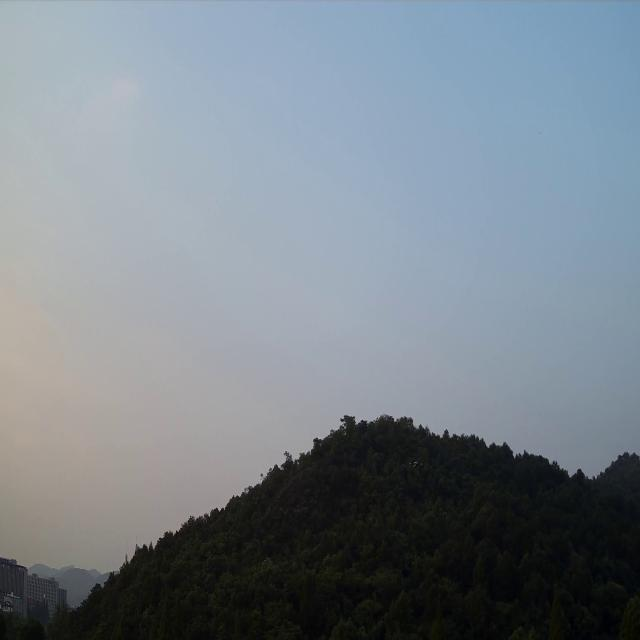UAV: (408, 458, 424, 470)
